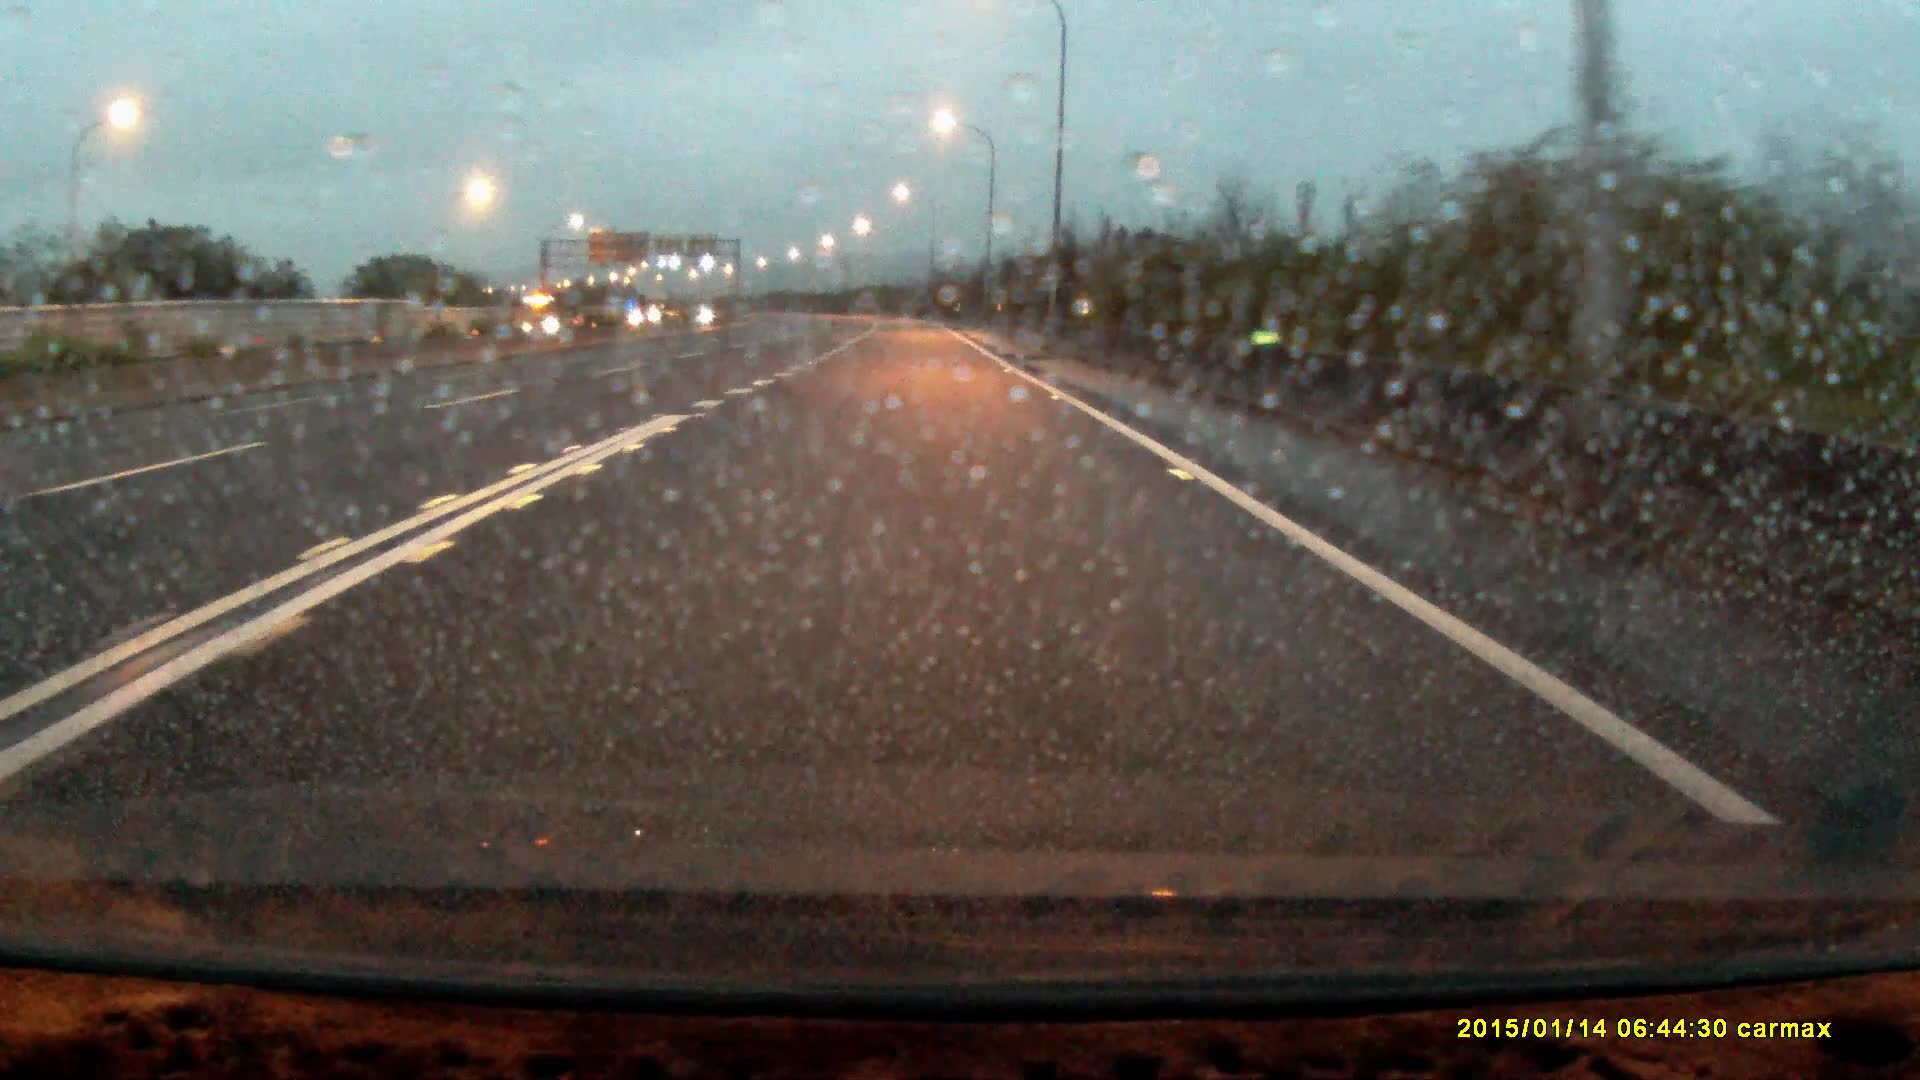vehicle: (520, 297, 585, 345)
